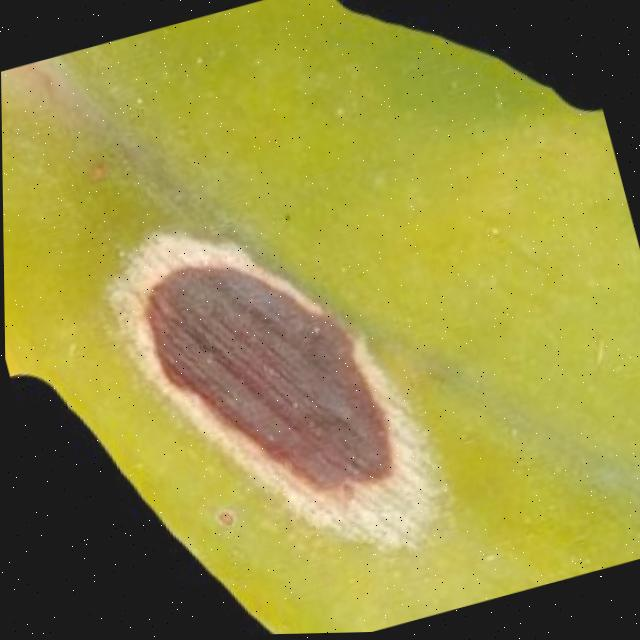mite: (324, 0, 600, 174), (71, 146, 116, 190), (200, 494, 245, 536), (207, 503, 235, 531), (80, 156, 108, 182), (270, 205, 297, 228), (275, 208, 292, 225)
spots: (1, 0, 640, 639)
sunburn: (122, 219, 406, 541)
